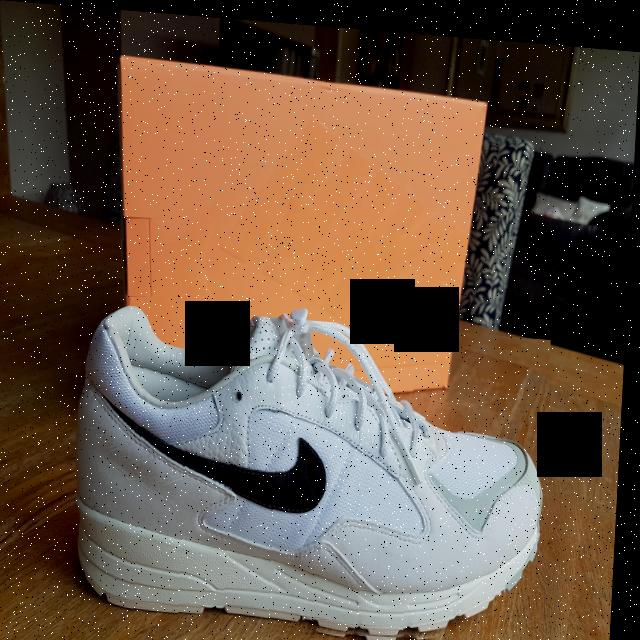shoe: (69, 300, 554, 640)
